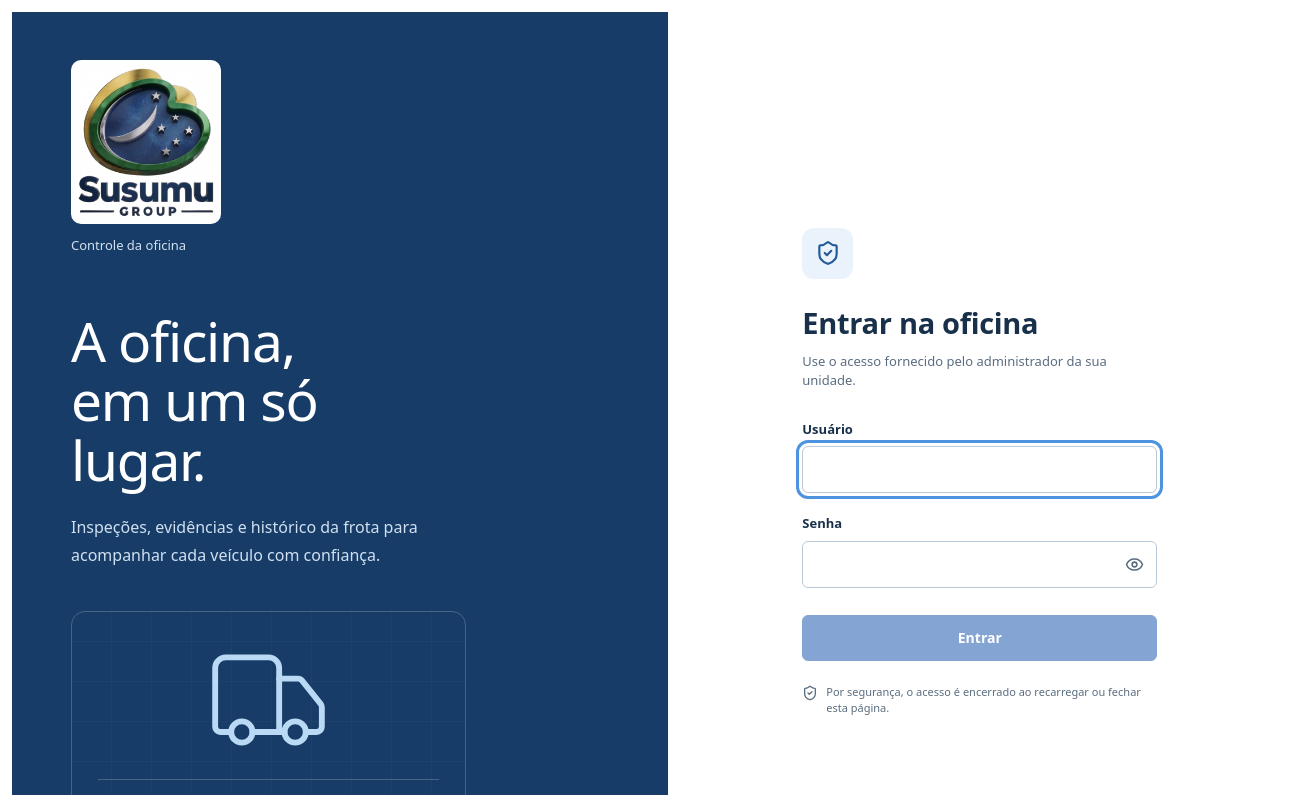
it: correction discovery › makes an unavailable correction check visible instead of implying the report has no revisions
Type "office" into the field labelled "Usuário".
click(980, 470); type("office")  # box [802,446,1157,493]
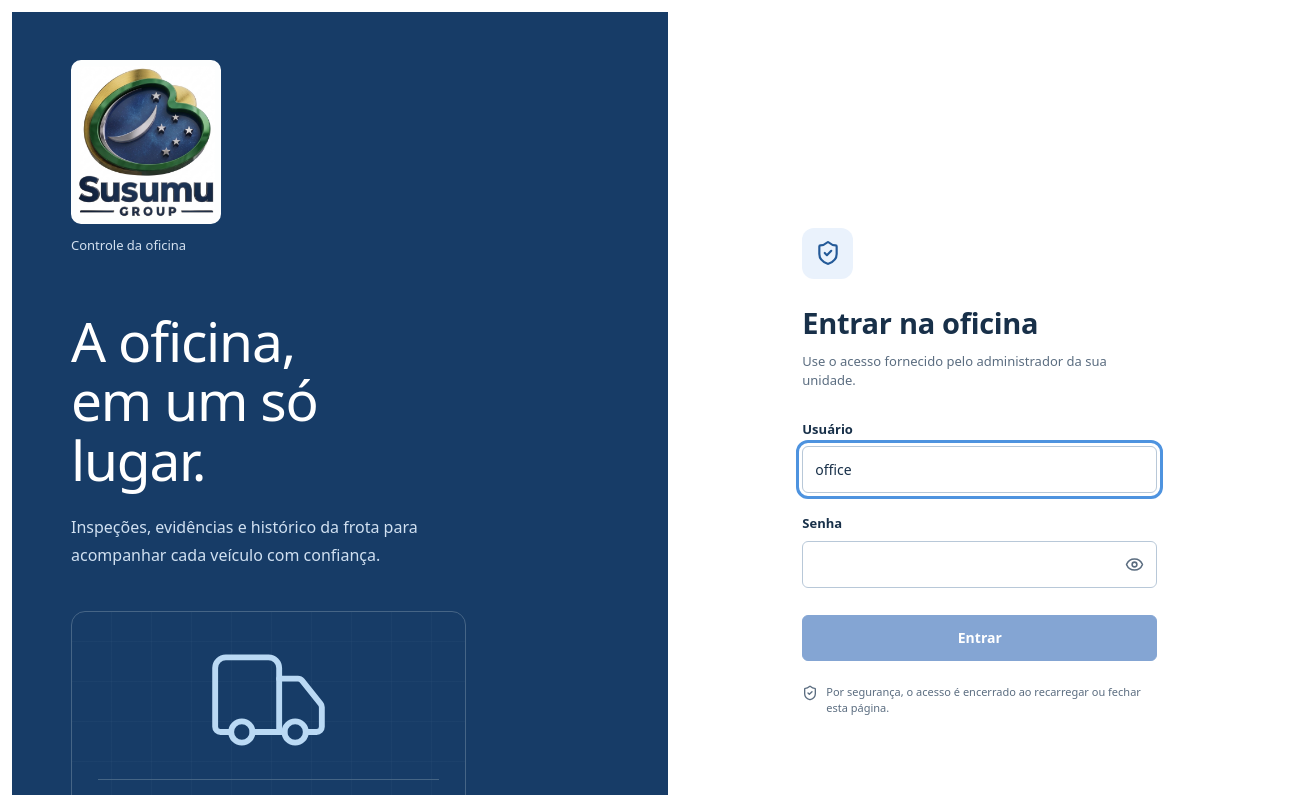
Type "test-only-password" into the password field labelled "Senha".
click(980, 564); type("test-only-password")  # box [802,541,1157,588]
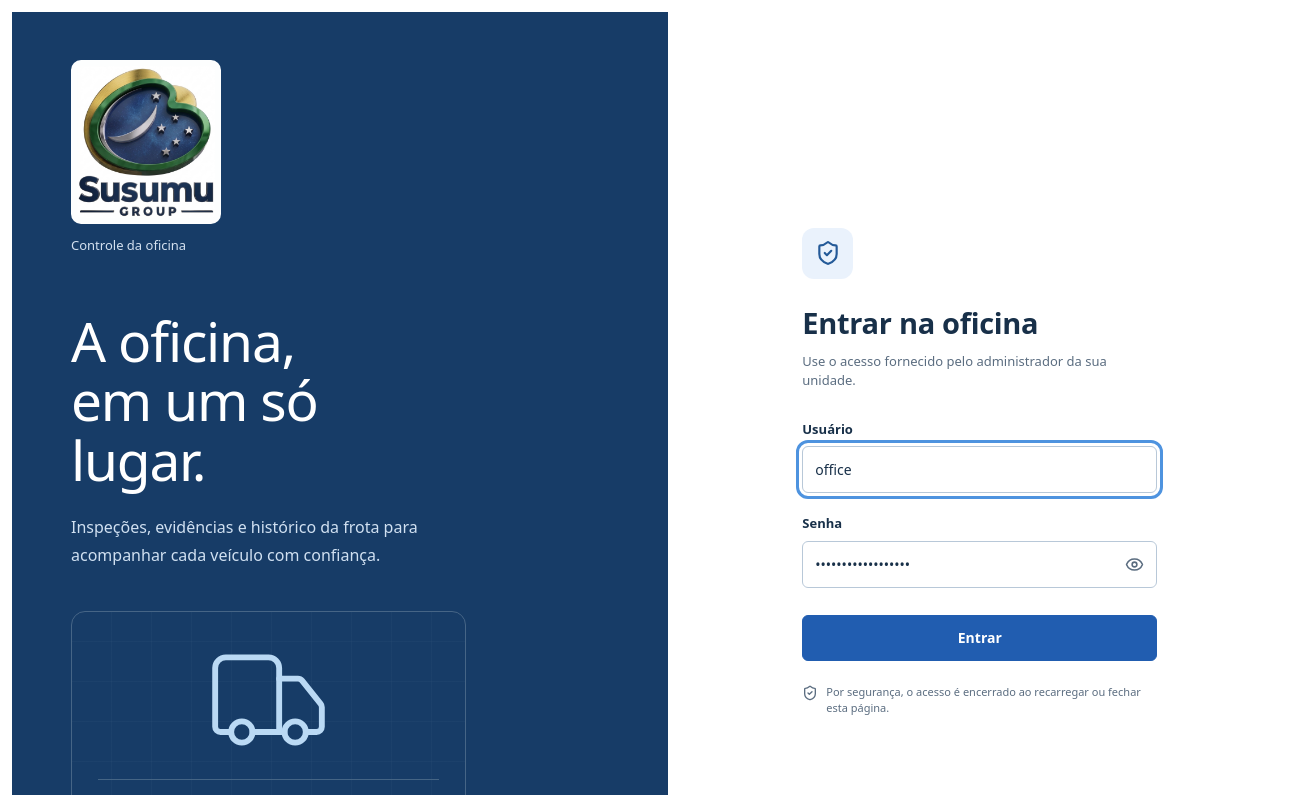
Click the button "Entrar".
click(980, 638)  # box [802,615,1157,661]
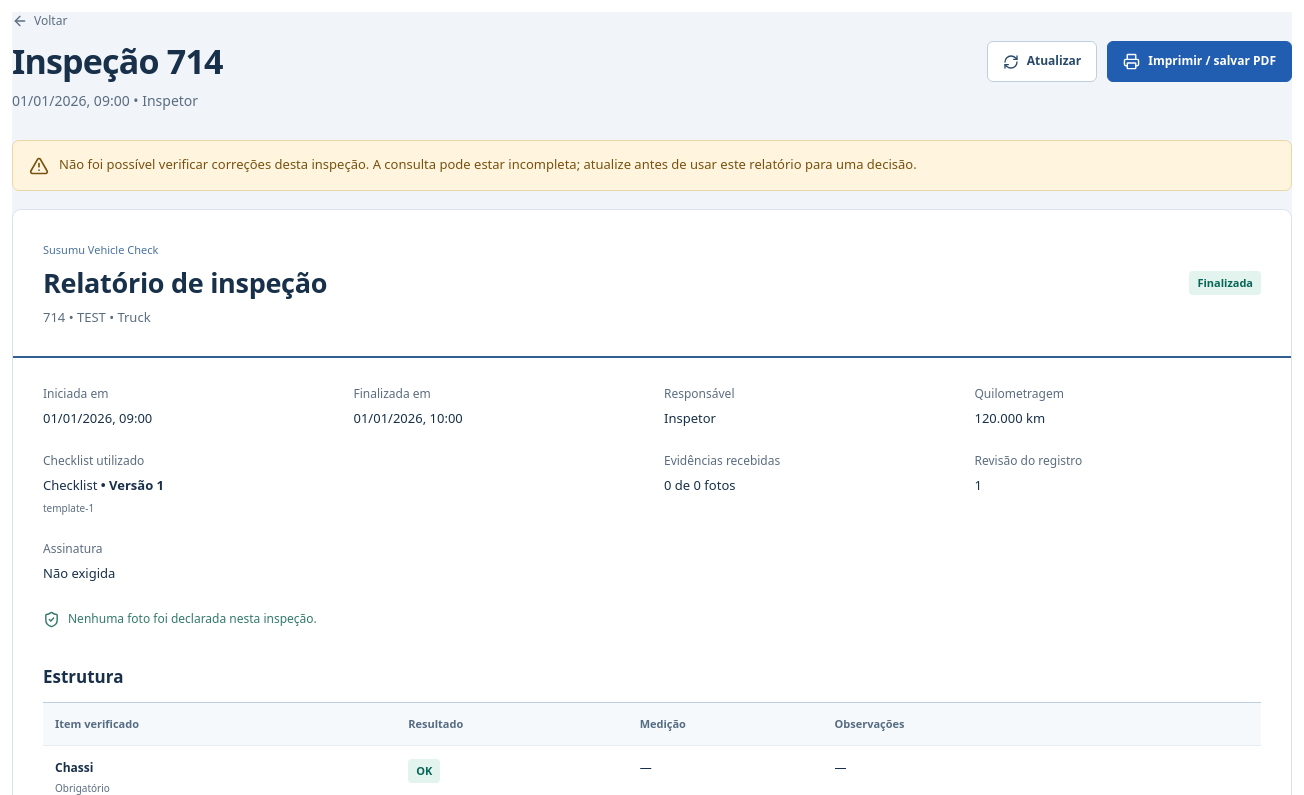
expect the text "Não foi possível verificar correções desta inspeção" is shown: met, box [59,155,917,173]
expect the heading "Relatório de inspeção" is shown: met, box [43,265,327,300]
